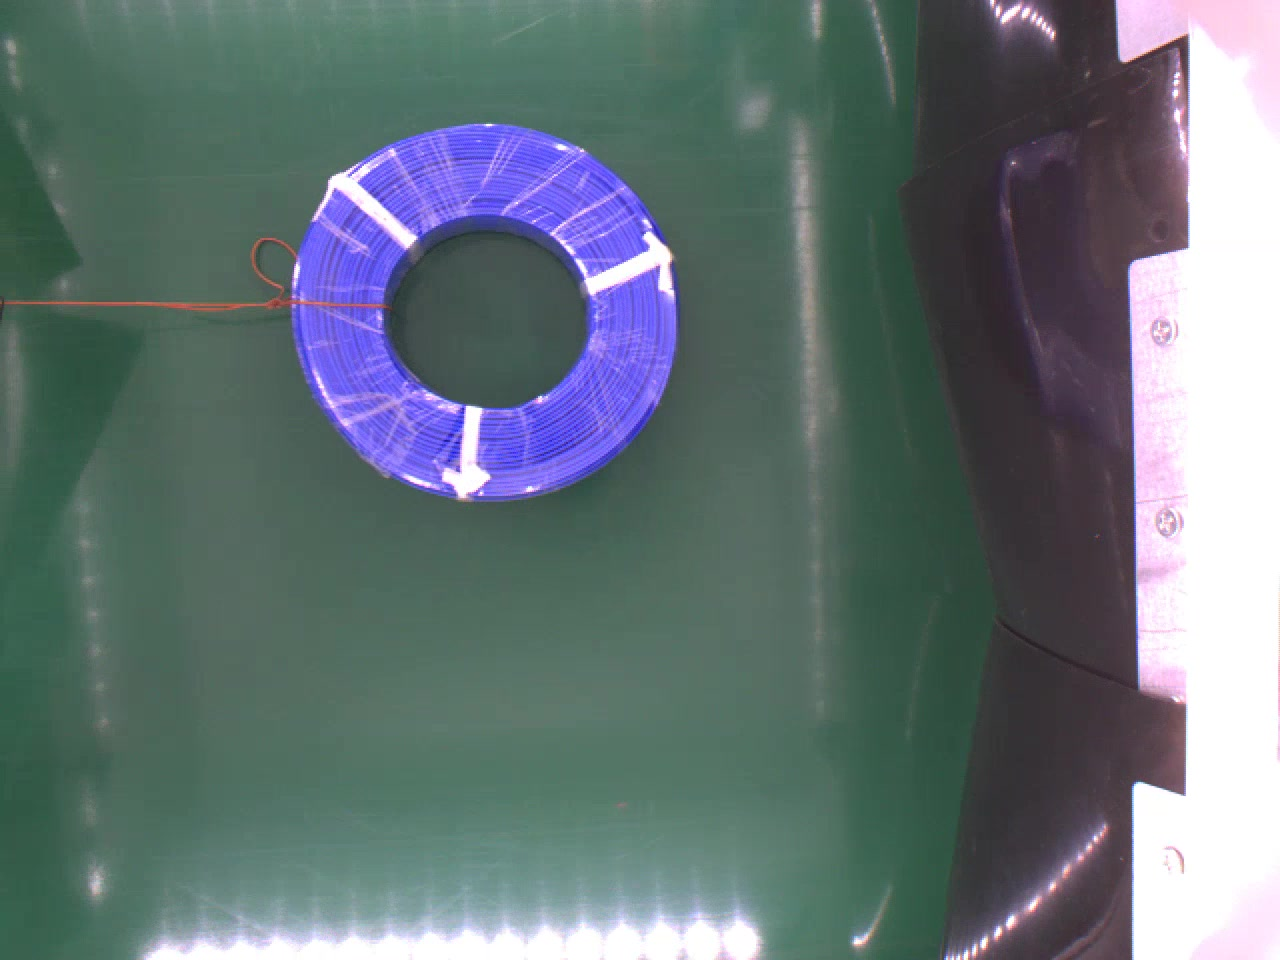blue: (287, 119, 682, 499)
